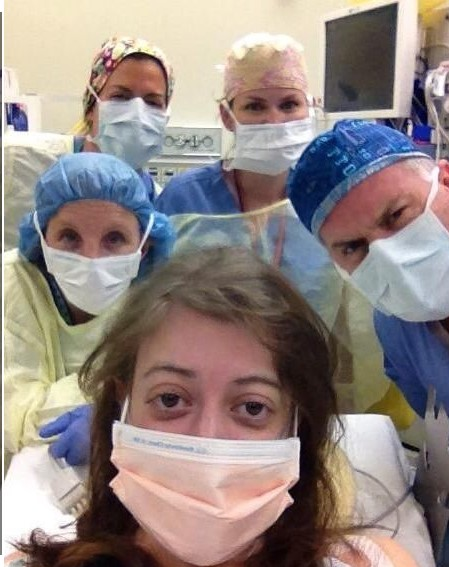face_with_mask: (114, 285, 310, 566), (296, 120, 449, 324), (34, 156, 153, 315), (218, 32, 316, 180), (85, 38, 172, 172)
